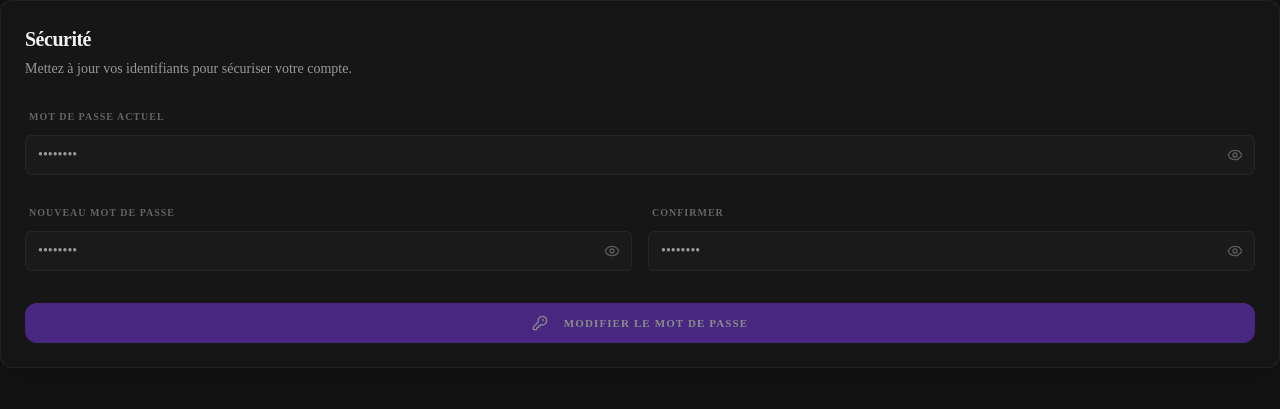
SecurityForm › should show error when new password is too short
The width and height of the screenshot is (1280, 409).
In the password field labelled "Mot de passe actuel": (640, 155) [25,135,1255,175], type "oldpassword"
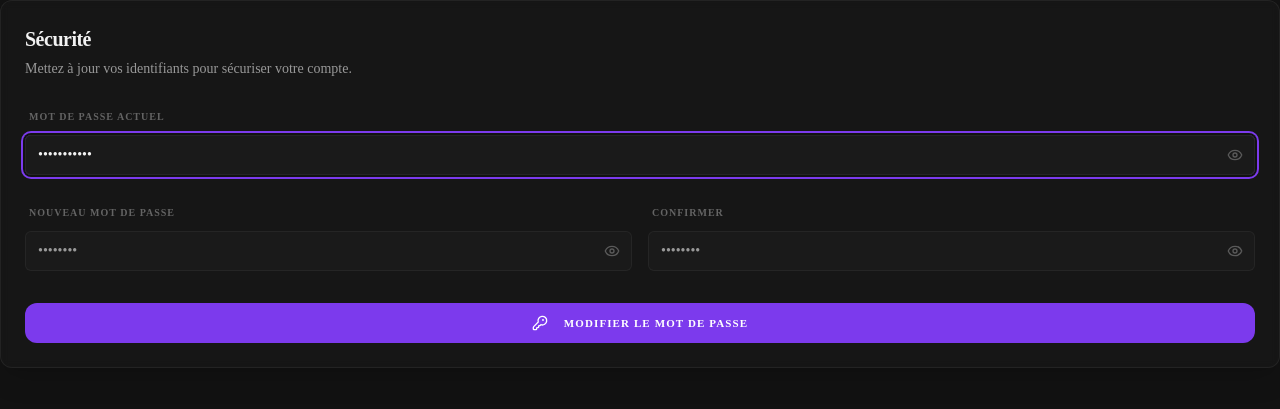
In the password field labelled "Nouveau mot de passe": (328, 251) [25,231,632,271], type "short"
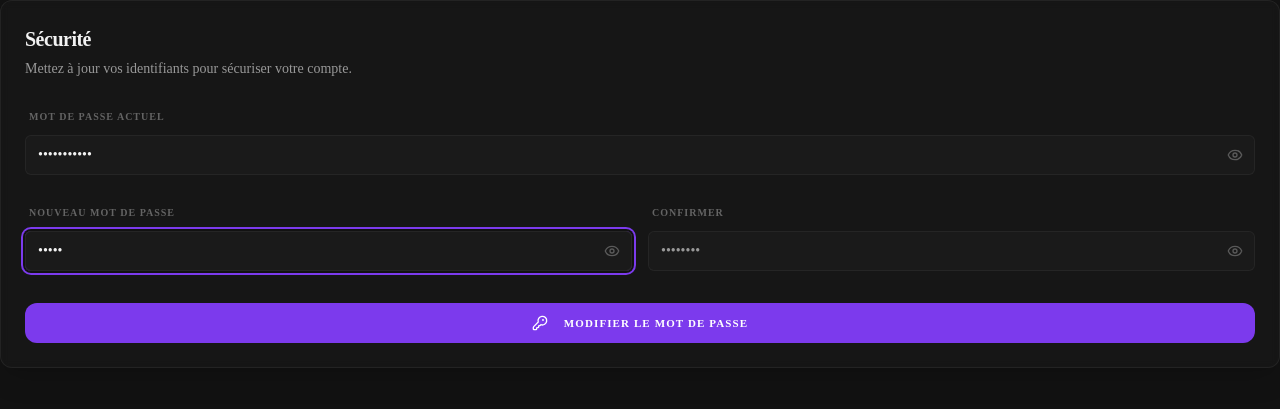
Click the button "Modifier le mot de passe": (640, 323) [25,303,1255,343]
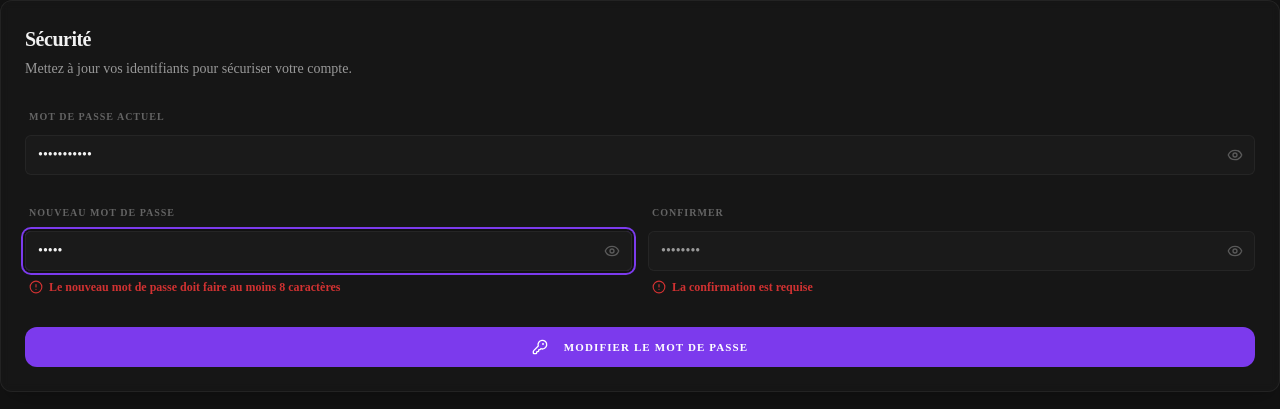
Expected: the text "Le nouveau mot de passe doit faire au moins 8 caractères" is shown, [49,279,340,295]
